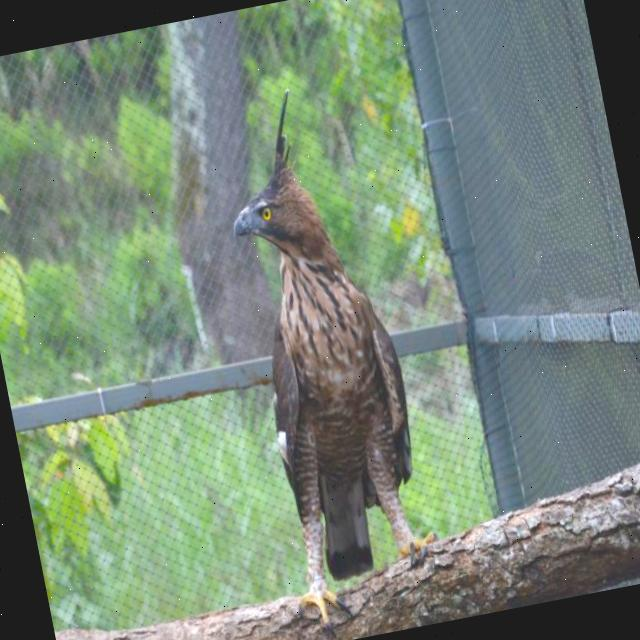Elang Jawa: (150, 39, 464, 640)
